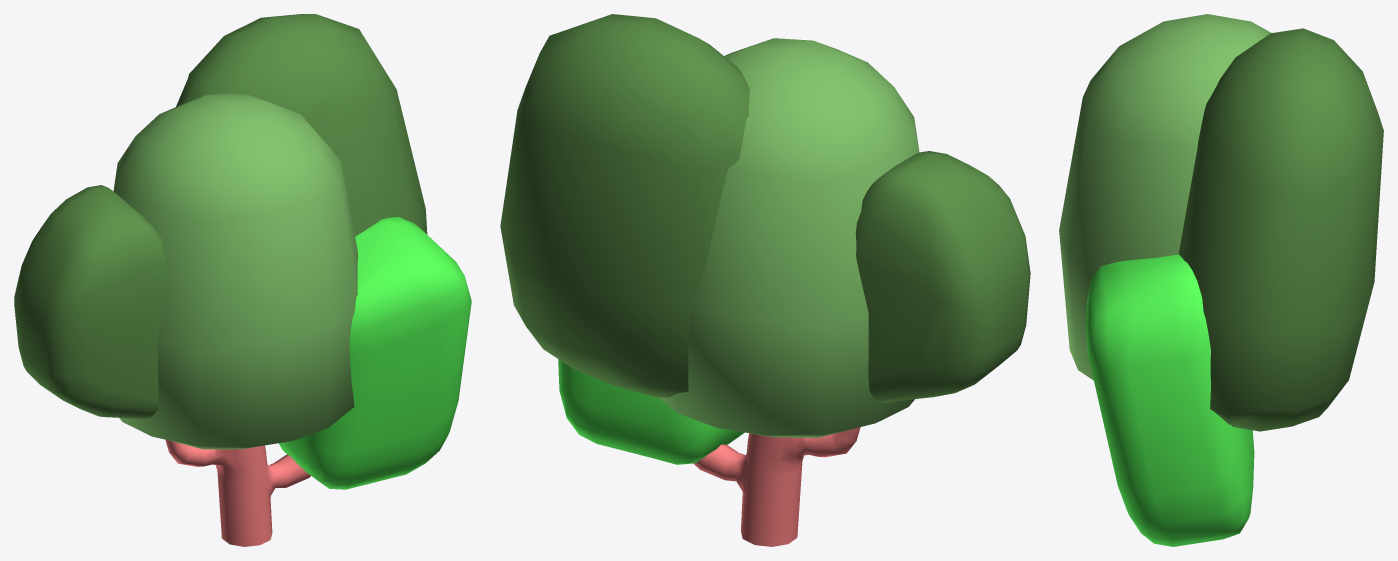
File: COM_VEGETACION_ARBOLES02.fbx
The picture shows the model from 3 angles, left to right: view 1: azimuth 30°, elevation 25°; view 2: azimuth 150°, elevation 25°; view 3: azimuth 270°, elevation 25°; orthographic projection. The views are drawn at different scales.
Parts seen in each view (by area): view 1: MOR_TEP_VEGETACION_ARBOL_03_LOD0; view 2: MOR_TEP_VEGETACION_ARBOL_03_LOD0; view 3: MOR_TEP_VEGETACION_ARBOL_03_LOD0.
Boxes of the visible parts, <box> form: MOR_TEP_VEGETACION_ARBOL_03_LOD0: <box>14,14,471,546</box>; MOR_TEP_VEGETACION_ARBOL_03_LOD0: <box>500,14,1030,546</box>; MOR_TEP_VEGETACION_ARBOL_03_LOD0: <box>1059,14,1383,546</box>.
Size of what is drawn, in the model's own units: 393 by 421 by 239.
